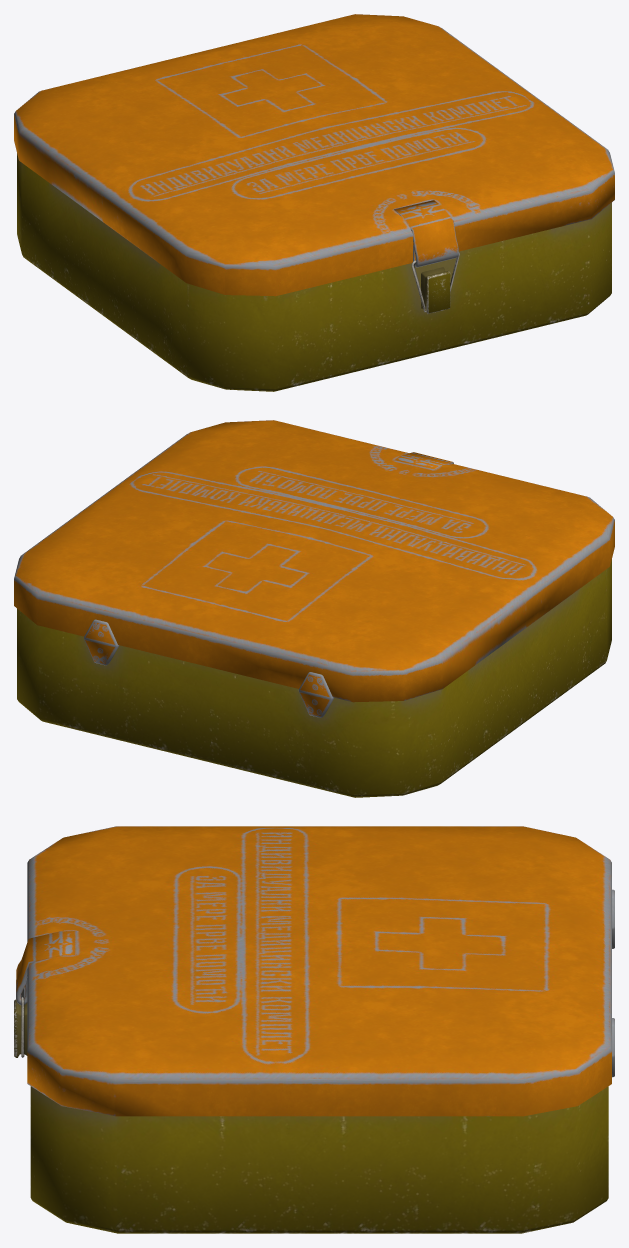
Rendered from MedKit_Small.fbx.
The picture shows the model from 3 angles, top to bottom: view 1: azimuth 30°, elevation 25°; view 2: azimuth 150°, elevation 25°; view 3: azimuth 270°, elevation 25°; orthographic projection. The views are drawn at different scales.
Visible parts, largest first — view 1: MedKit_Model; view 2: MedKit_Model; view 3: MedKit_Model.
Part boxes in pixels (x1,y1,x2,y2): MedKit_Model: [14, 14, 614, 391]; MedKit_Model: [14, 420, 614, 797]; MedKit_Model: [14, 826, 614, 1233].
Bounding box in the file's own units: 197 × 64.37 × 198.
